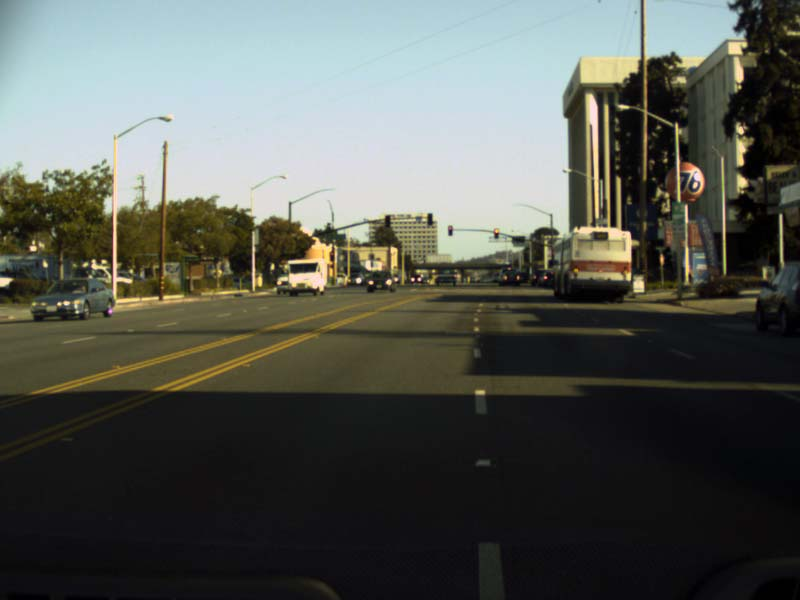Red: (447, 225, 452, 236), (493, 227, 498, 238)
